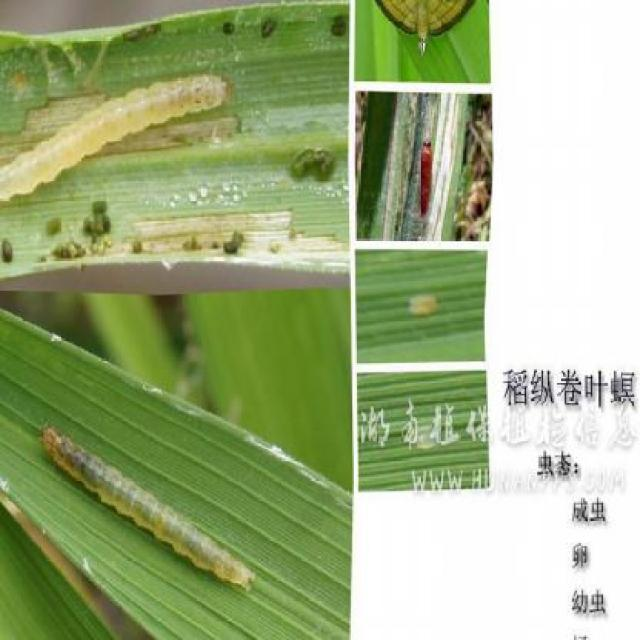leaf-folder: (42, 402, 262, 610), (3, 57, 237, 212), (409, 126, 438, 220), (401, 280, 454, 331)
